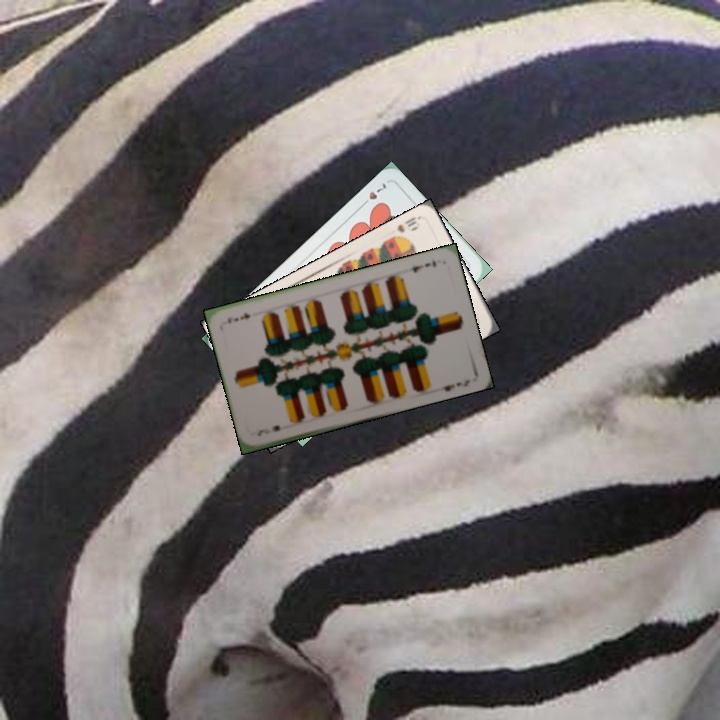E7: (408, 257, 439, 275), (253, 421, 283, 439)
H7: (357, 178, 389, 210)
S10: (387, 212, 423, 244)
